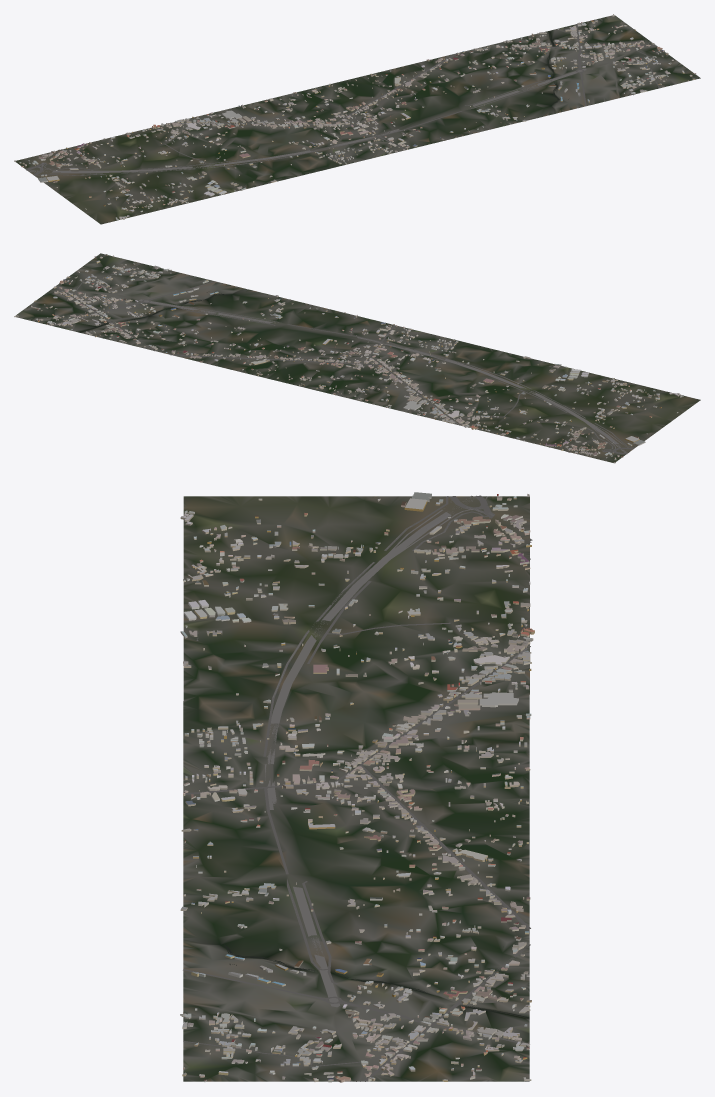
3 views of the same model, one above another, from view 1: azimuth 30°, elevation 25°; view 2: azimuth 150°, elevation 25°; view 3: azimuth 270°, elevation 25° (orthographic). The views are drawn at different scales.
Parts seen in each view (by area): view 1: ground, buildings, roads; view 2: ground, buildings, roads; view 3: ground, buildings, roads.
Part boxes in pixels (x1,y1,x2,y2): ground: (15,15,700,224); buildings: (14,14,696,220); roads: (25,24,659,186); ground: (14,253,700,462); buildings: (14,254,683,463); roads: (52,263,634,454); ground: (183,496,529,1081); buildings: (180,492,534,1082); roads: (183,495,532,1081).
Size of the model in its own units: 5635 by 22.36 by 1436.
